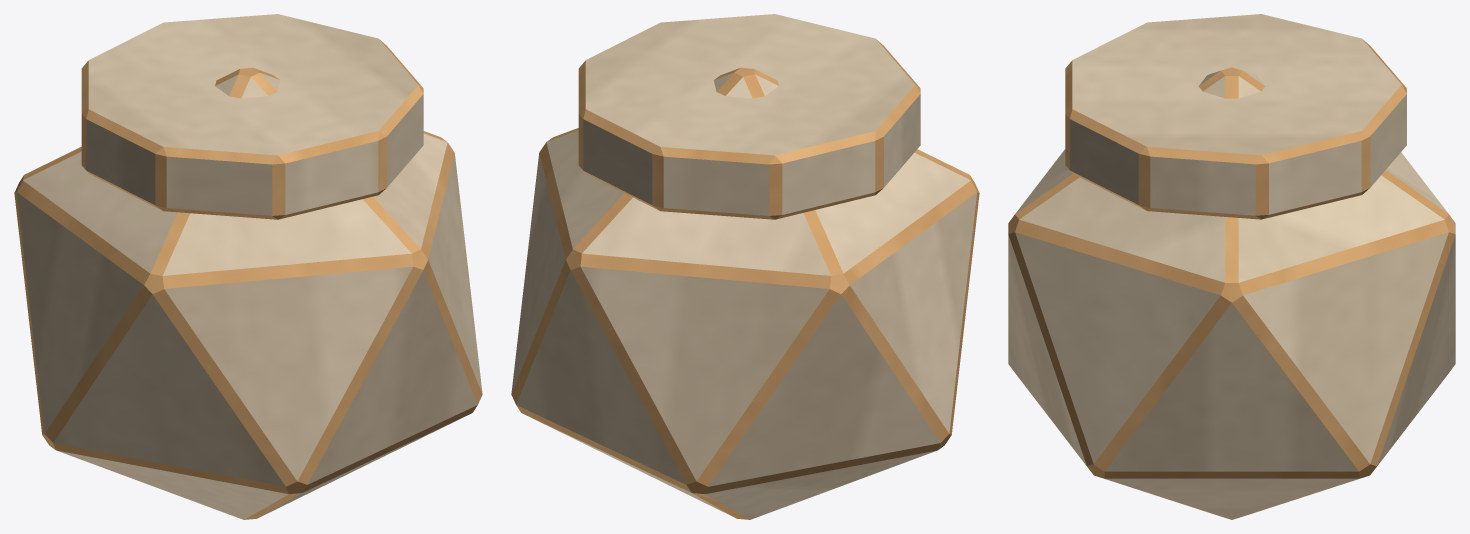
Rendered from sm_prop_clay_pot.glb.
3 renders of one model, left to right at view 1: azimuth 30°, elevation 25°; view 2: azimuth 150°, elevation 25°; view 3: azimuth 270°, elevation 25°, orthographic.
Visible parts, largest first — view 1: sm_prop_clay_pot; view 2: sm_prop_clay_pot; view 3: sm_prop_clay_pot.
Boxes of the visible parts, box(x1,y1,x2,y2) form: sm_prop_clay_pot: box(14, 14, 482, 519); sm_prop_clay_pot: box(511, 14, 979, 519); sm_prop_clay_pot: box(1008, 14, 1455, 519).
Size of the model in its own units: 0.2653 by 0.2757 by 0.2523.
1 material, 1 textured.
